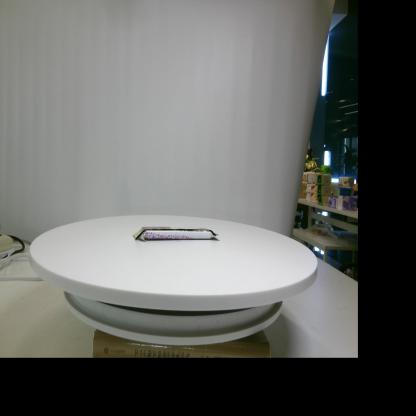Chocolate: (133, 227, 220, 241)
